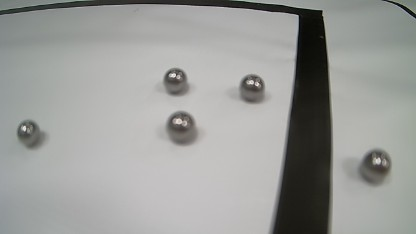ironball: (359, 149, 391, 183), (166, 111, 196, 143), (239, 74, 264, 102), (17, 119, 40, 147), (163, 67, 187, 93)
